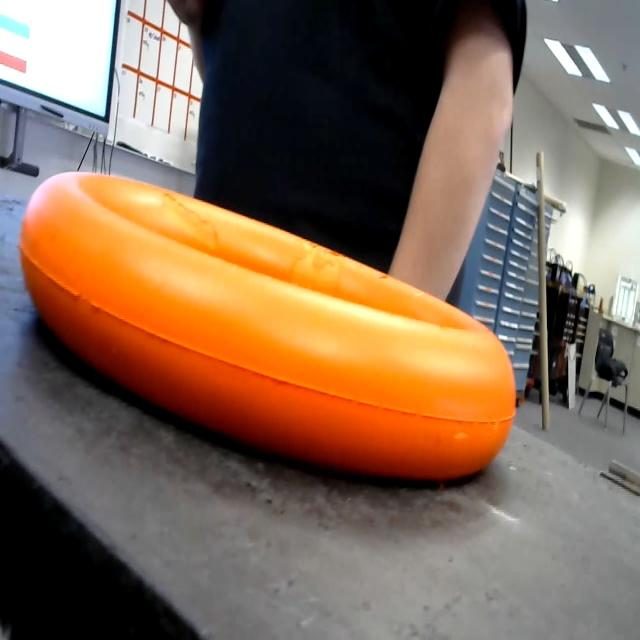note: (13, 144, 521, 499)
